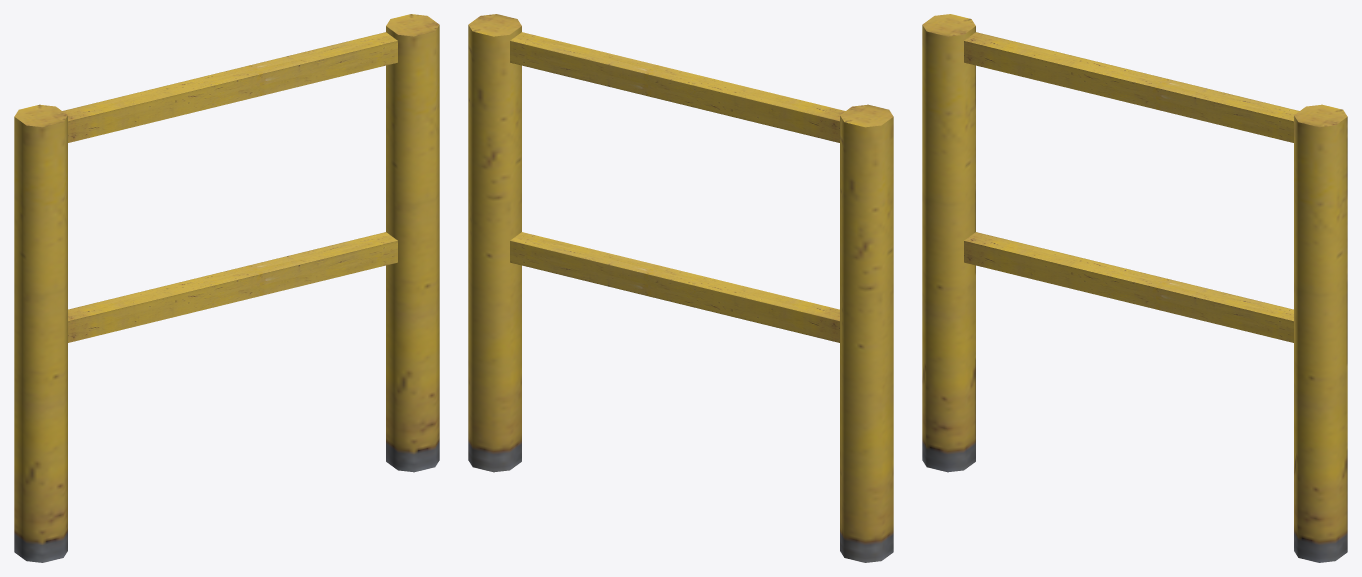
File: Ladder_0,5m.fbx
3 views of the same model, side by side, from view 1: azimuth 30°, elevation 25°; view 2: azimuth 150°, elevation 25°; view 3: azimuth 330°, elevation 25° (orthographic).
Parts seen in each view (by area): view 1: Ladder_0,5m; view 2: Ladder_0,5m; view 3: Ladder_0,5m.
Boxes of the visible parts, left/top/right/bottom form: Ladder_0,5m: left=14, top=14, right=439, bottom=562; Ladder_0,5m: left=468, top=14, right=893, bottom=562; Ladder_0,5m: left=922, top=14, right=1347, bottom=562.
Size of the model in its own units: 49.71 by 50.08 by 5.
